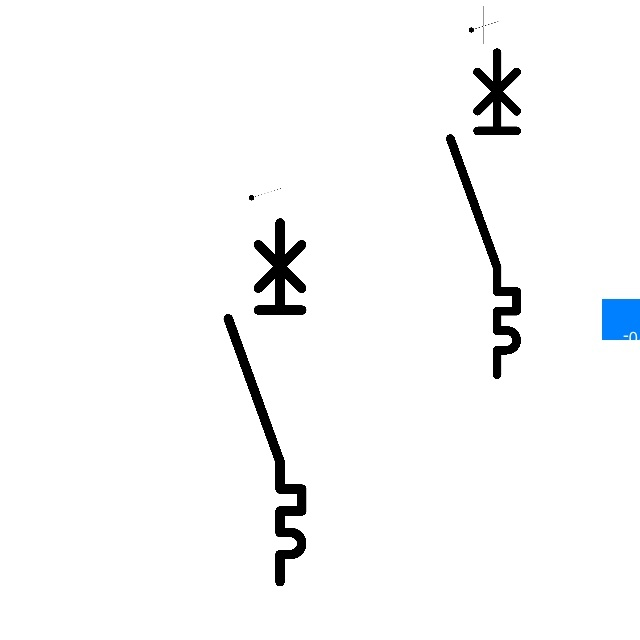interruptor_termomagnetico: (219, 213, 311, 591), (442, 44, 525, 383)
